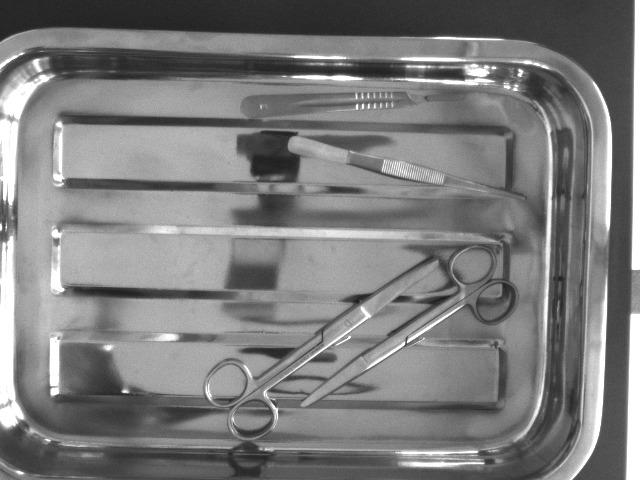scissors: (298, 244, 520, 420)
